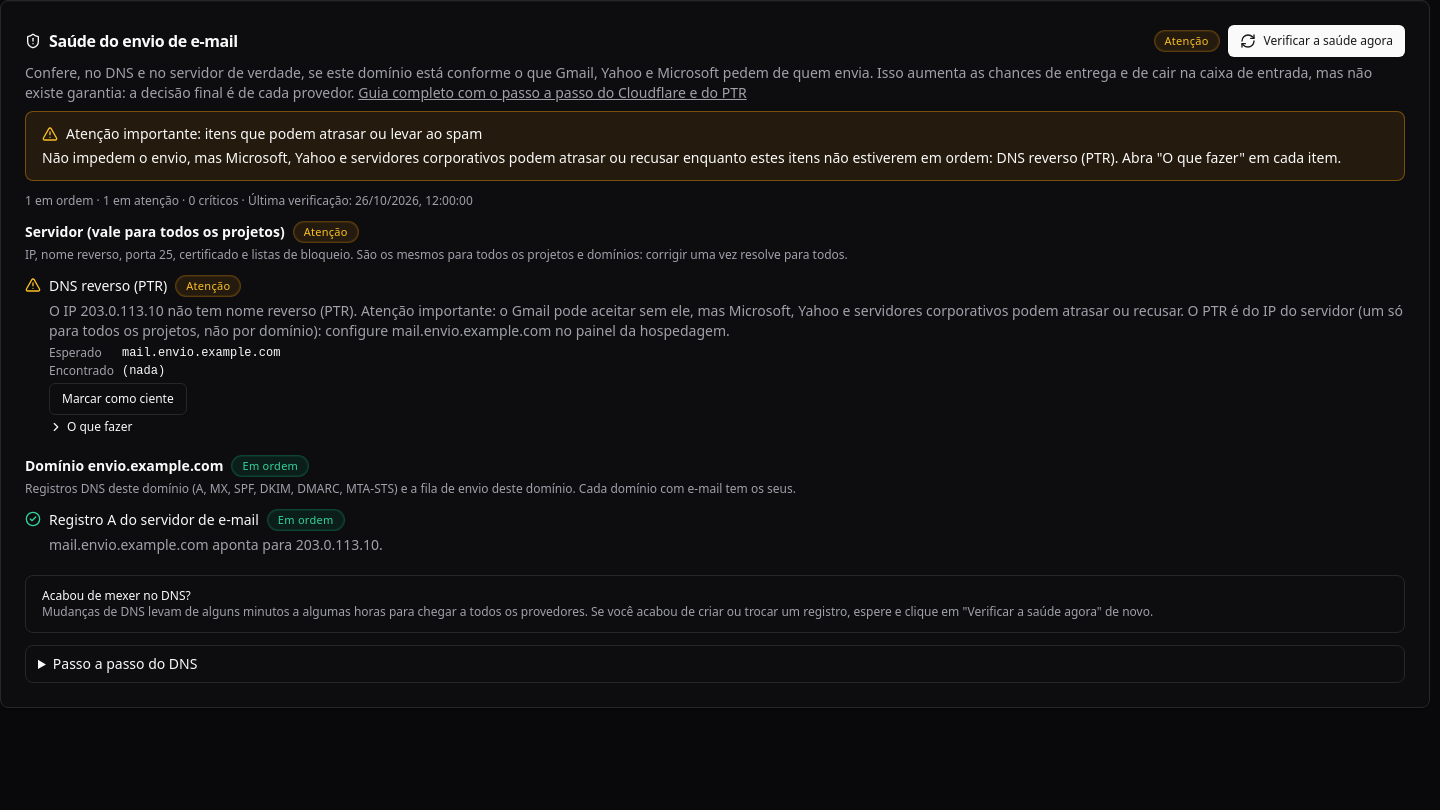
it: marcar como ciente › falha ao marcar: mostra o erro e deixa o formulário aberto
Click the button with test id "ack-open-ptr". click: click(118, 399)
box: [49, 383, 187, 415]
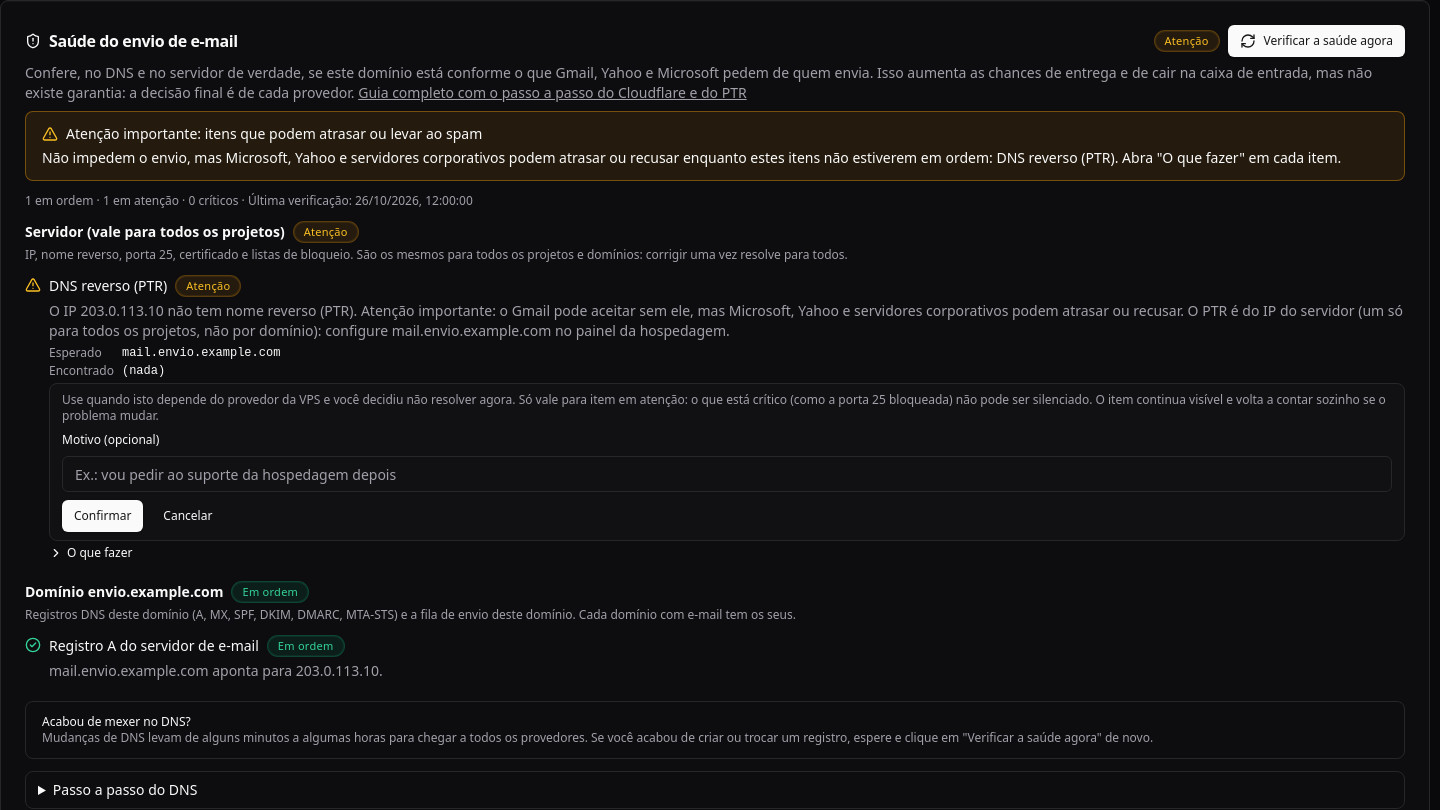
Click the button "Confirmar". click: click(103, 516)
box: [62, 500, 143, 532]
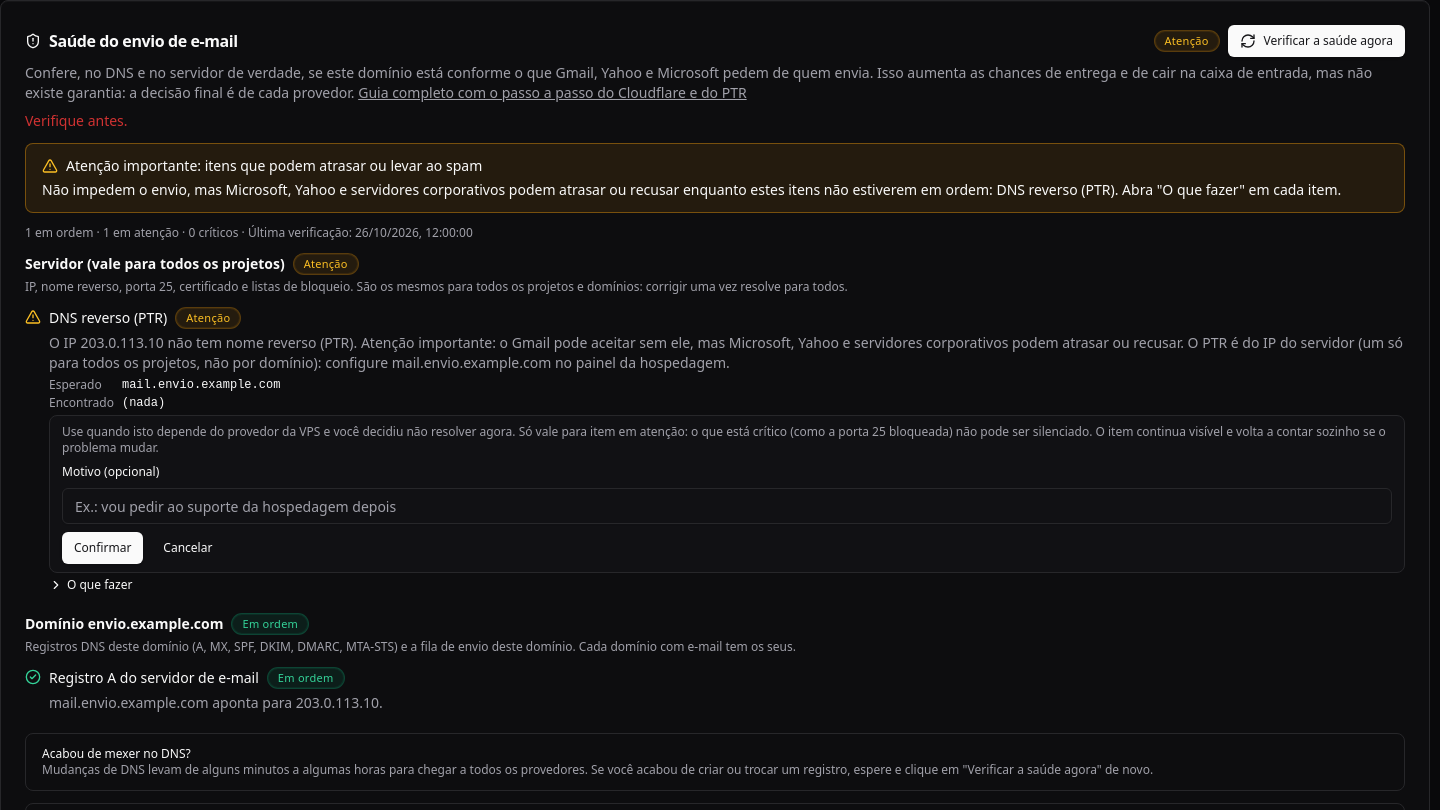
Check: the form with test id "ack-form-ptr" is shown, box [49, 415, 1405, 573]
Check: the text "Verifique antes." is shown, box [25, 111, 128, 130]
